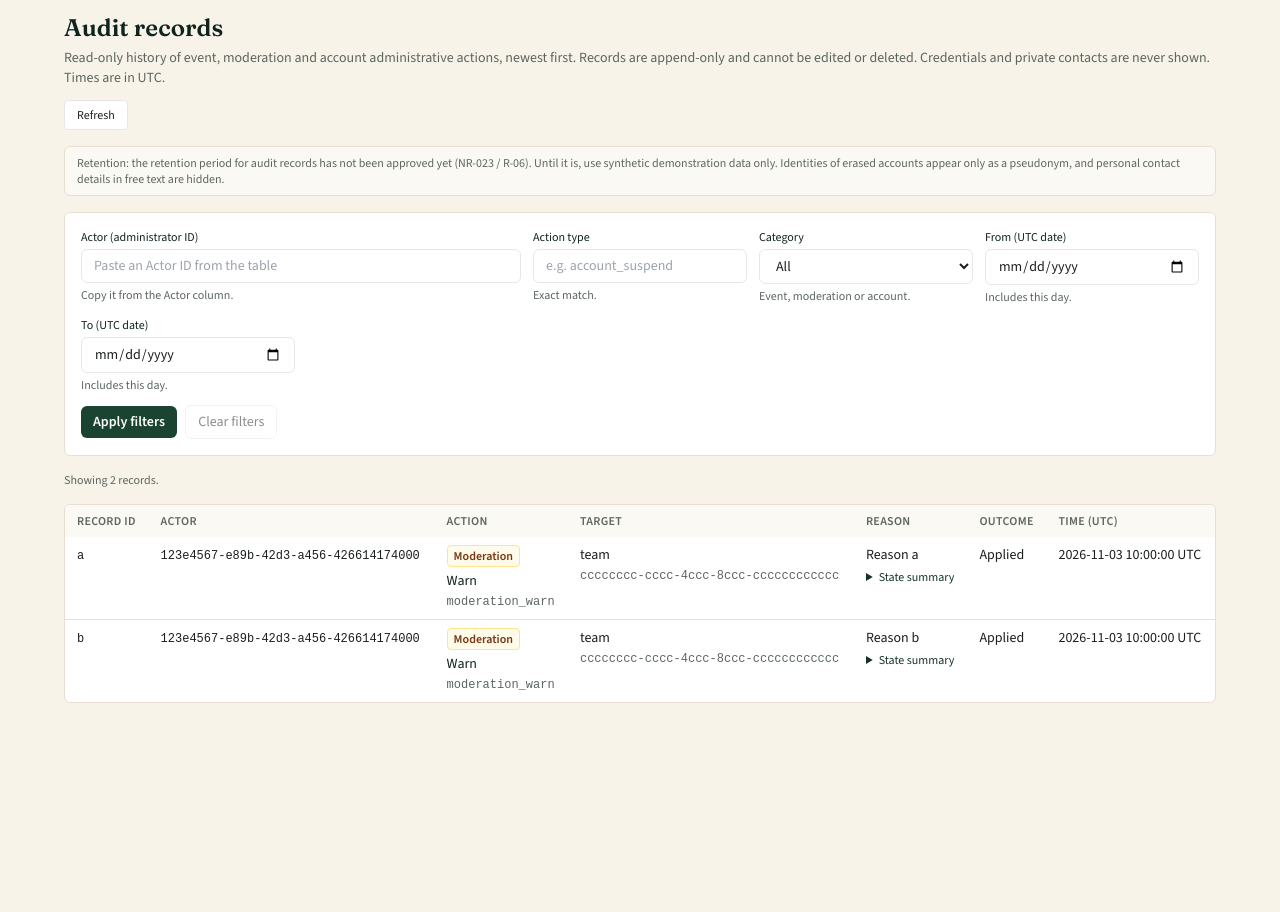
AuditRecordsPage filters (US-028 / #260) › summarizes the applied filters in words
The image size is (1280, 912).
Select "Moderation" in the dropdown with test id "audit-filter-category": (866, 266) [759,249,973,284]
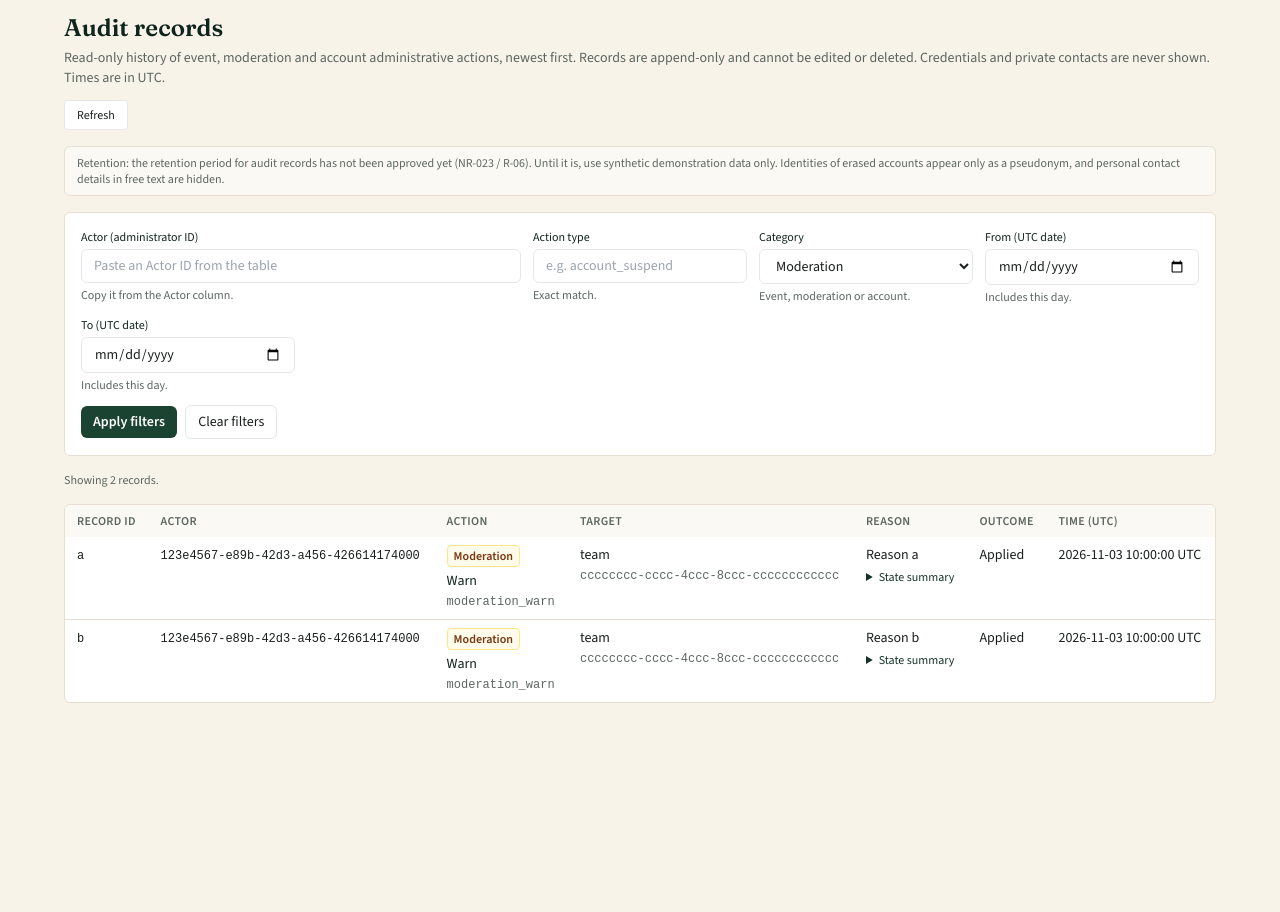
In the date field with test id "audit-filter-from": (1092, 267) [985,249,1199,285], type "2026-11-01"
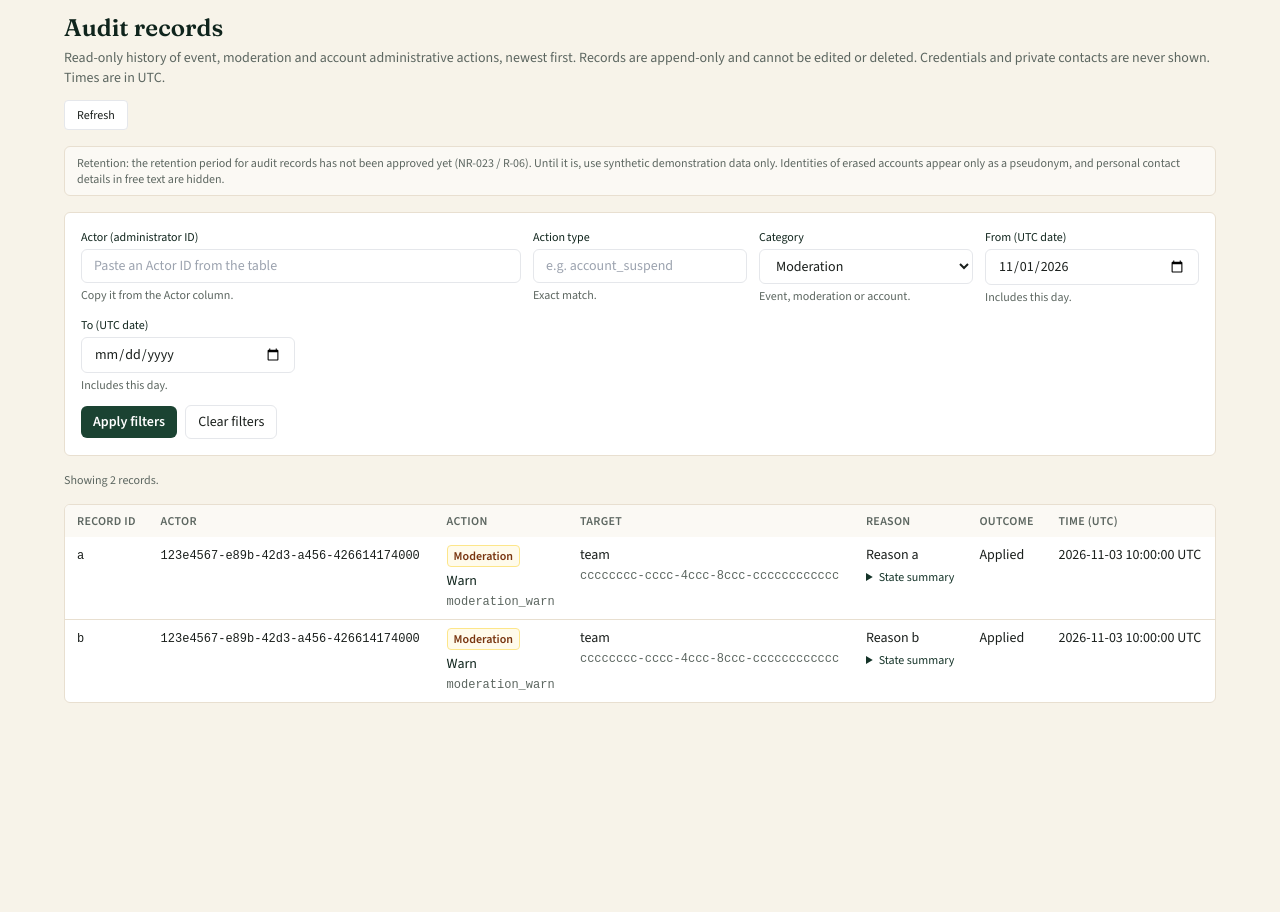
Click the button with test id "audit-filter-apply": (129, 422) [81,406,177,438]
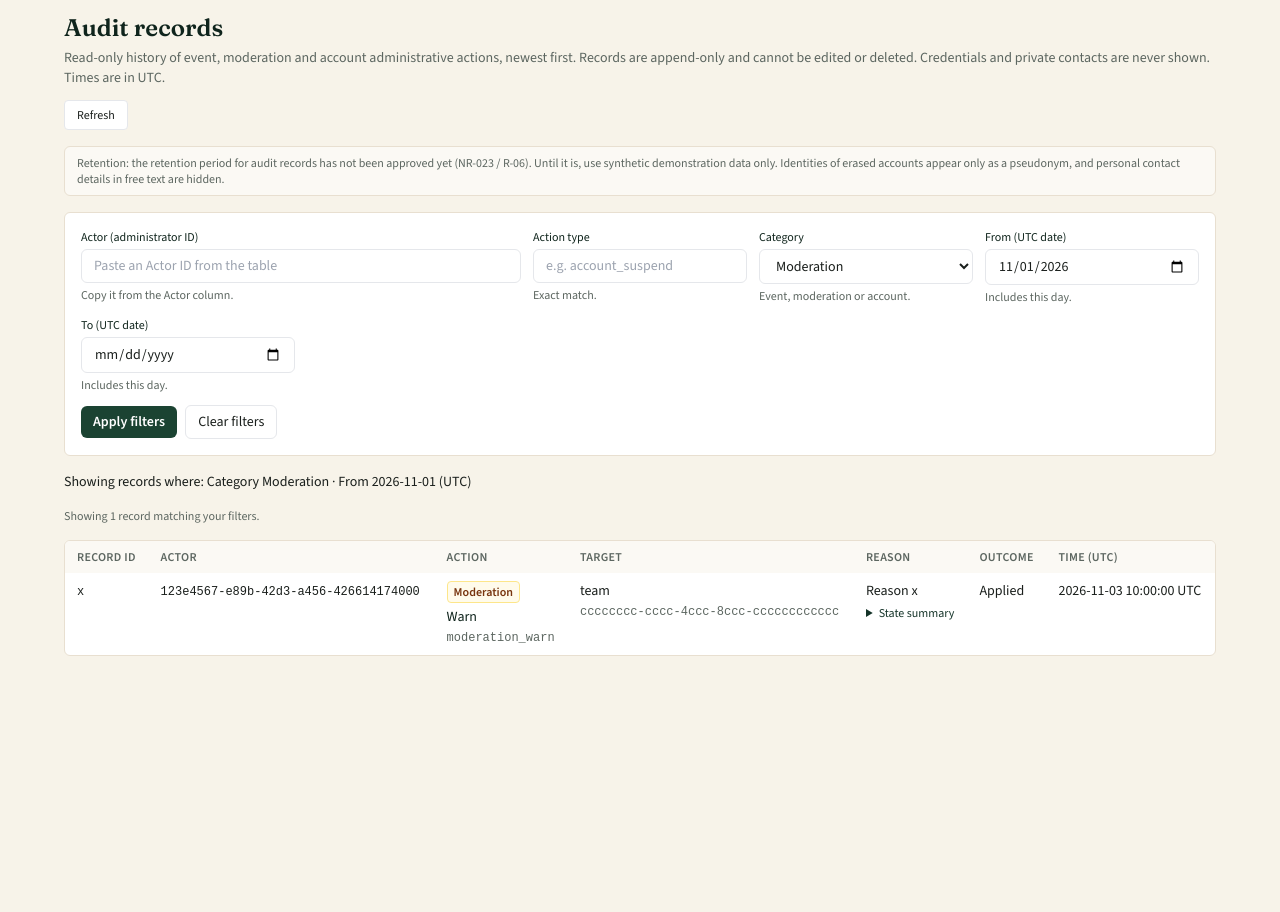
Expected: the element with test id "audit-active-filters" does not show "Actor", [64,472,472,491]
Expected: the element with test id "audit-active-filters" shows "Category Moderation", [207,472,472,491]
Expected: the element with test id "audit-active-filters" shows "From 2026-11-01 (UTC)", [207,472,472,491]
